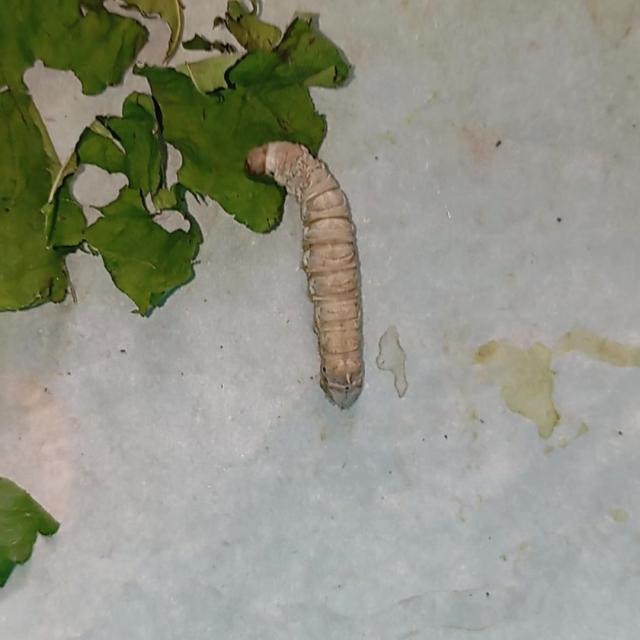Grasserie: (235, 128, 388, 418)
